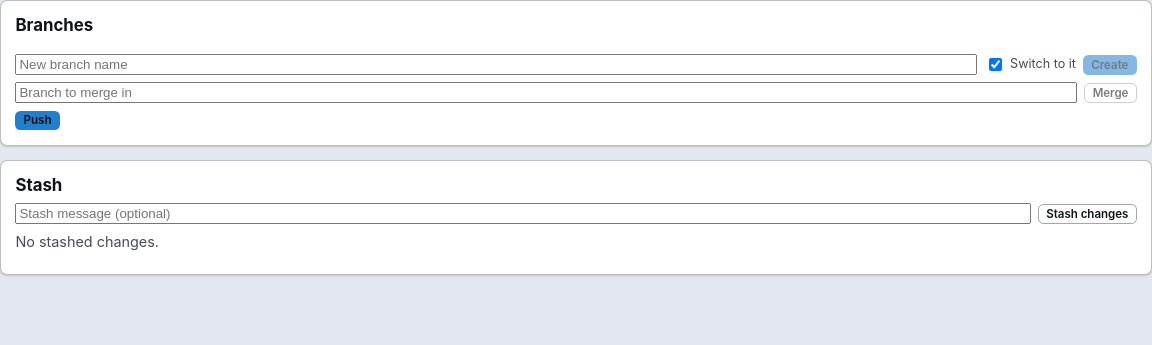
Test: GitBranchPanel: push (SPEC §7.6/§7.14; issue #235) › an auth_failed outcome is reported distinctly from a generic error
The image size is (1152, 345).
Click the button with test id "git-branch-push-submit" at x=38, y=120, box [15, 111, 60, 130]
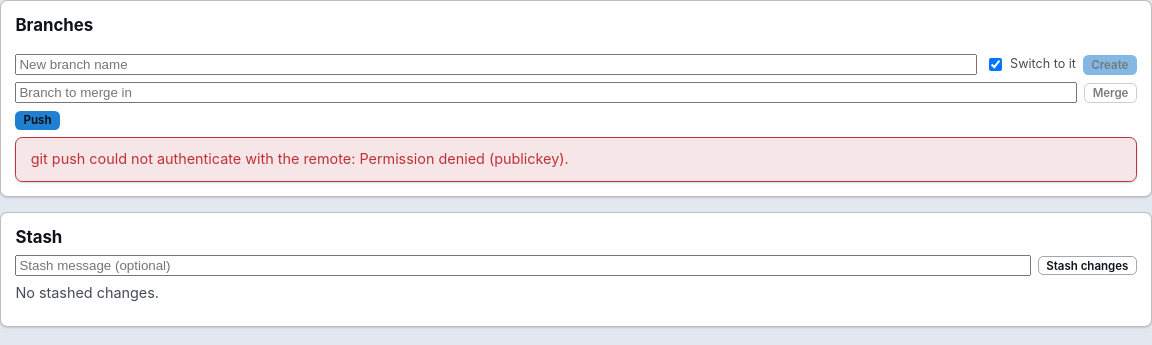
Expected: the text "could not authenticate with the remote" is shown, [31, 150, 569, 167]
